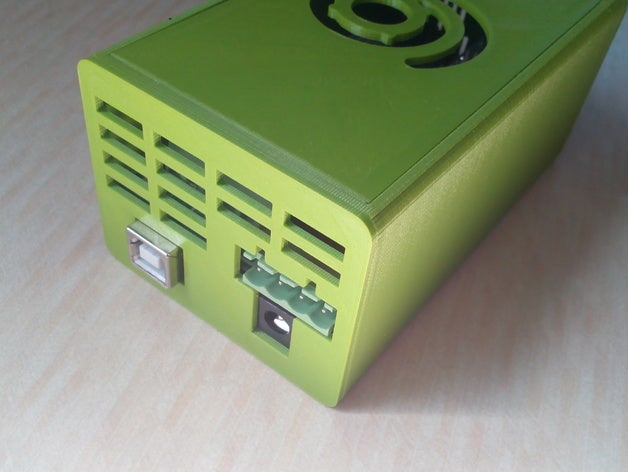Good: (70, 3, 619, 405)
